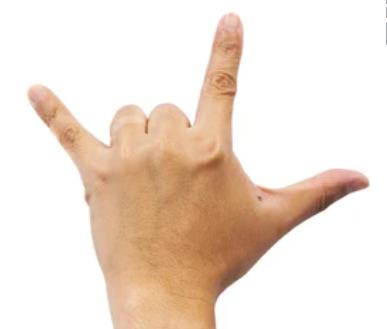back: (26, 12, 372, 297)
